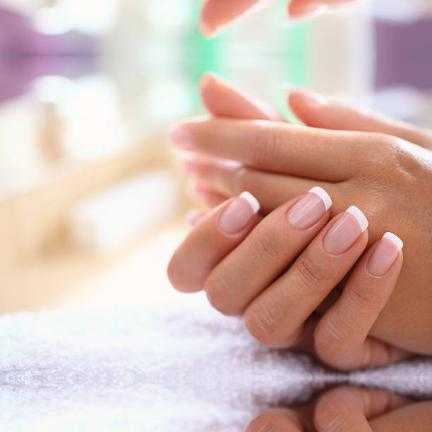Nail: (323, 205, 369, 254), (286, 186, 332, 229), (218, 190, 260, 233), (366, 231, 403, 275)
